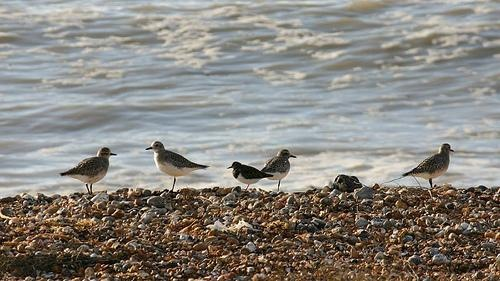bird: (389, 142, 461, 199), (138, 139, 204, 195), (63, 144, 115, 198), (260, 149, 298, 200), (229, 155, 267, 194)
